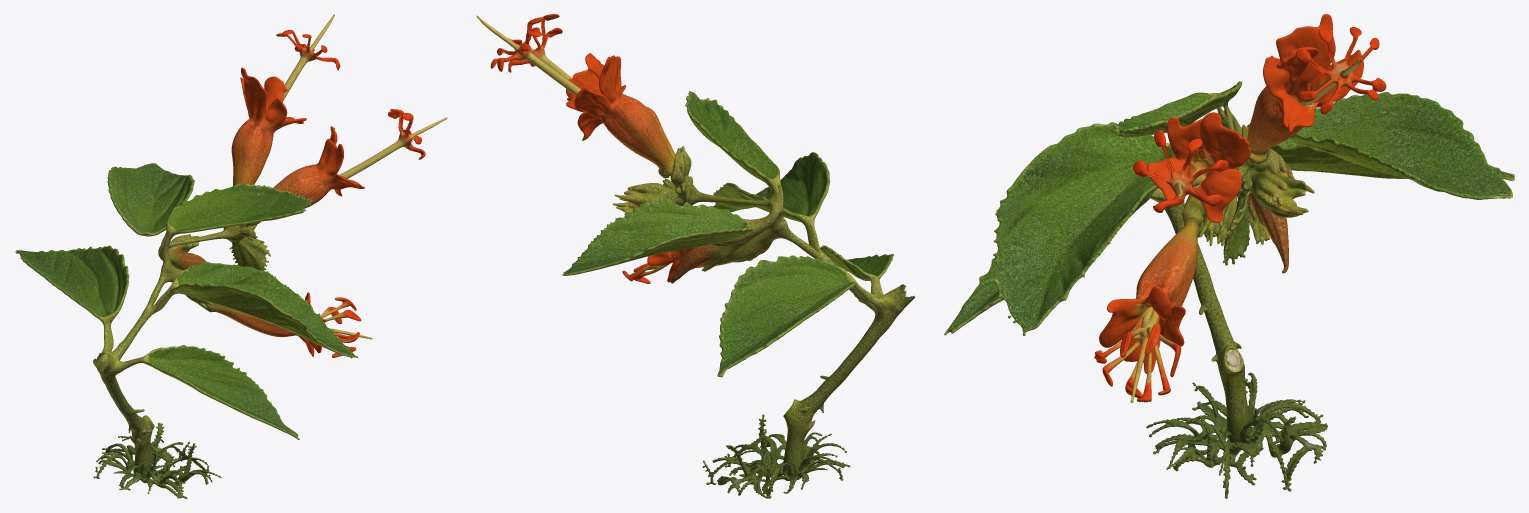
The model's file is helicteres_pentandra.fbx.
3 renders of one model, left to right at view 1: azimuth 30°, elevation 25°; view 2: azimuth 150°, elevation 25°; view 3: azimuth 270°, elevation 25°, orthographic. The views are drawn at different scales.
Visible parts, largest first — view 1: tripo_node_b5aac645; view 2: tripo_node_b5aac645; view 3: tripo_node_b5aac645.
Boxes of the visible parts, x1,y1,x2,y2 form: tripo_node_b5aac645: [15, 14, 447, 498]; tripo_node_b5aac645: [476, 14, 915, 498]; tripo_node_b5aac645: [944, 14, 1514, 498].
Size of the model in its own units: 90.17 by 91.93 by 84.6.
1 material, 1 textured.
